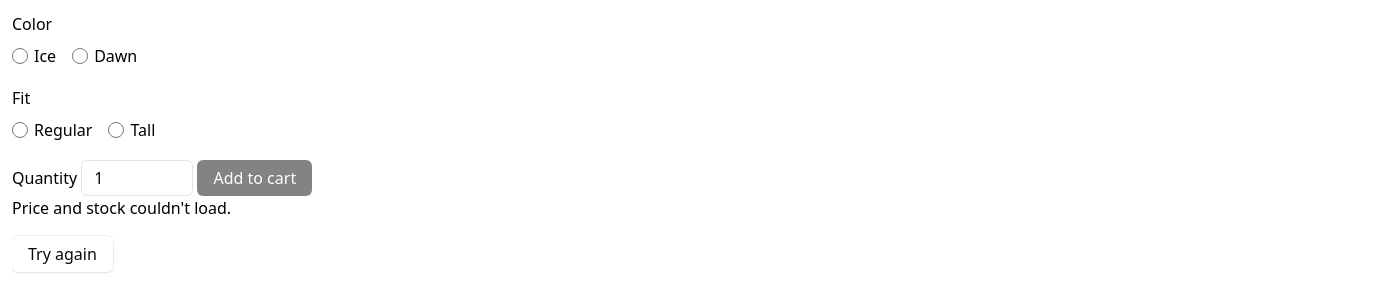
it: ProductPurchase › offers a retry when loading fails
Expected: the text "Price and stock couldn't load." is shown, [12,197,231,219]
Step 1. Click the button "Try again" → coordinates (62, 254), box [12,236,113,272]
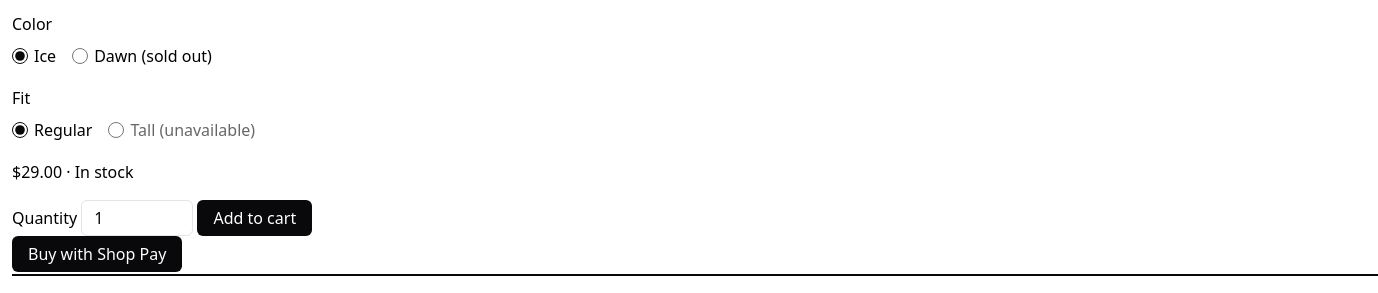
Result: the text "$29.00 · In stock" is shown at [12,161,134,183]
